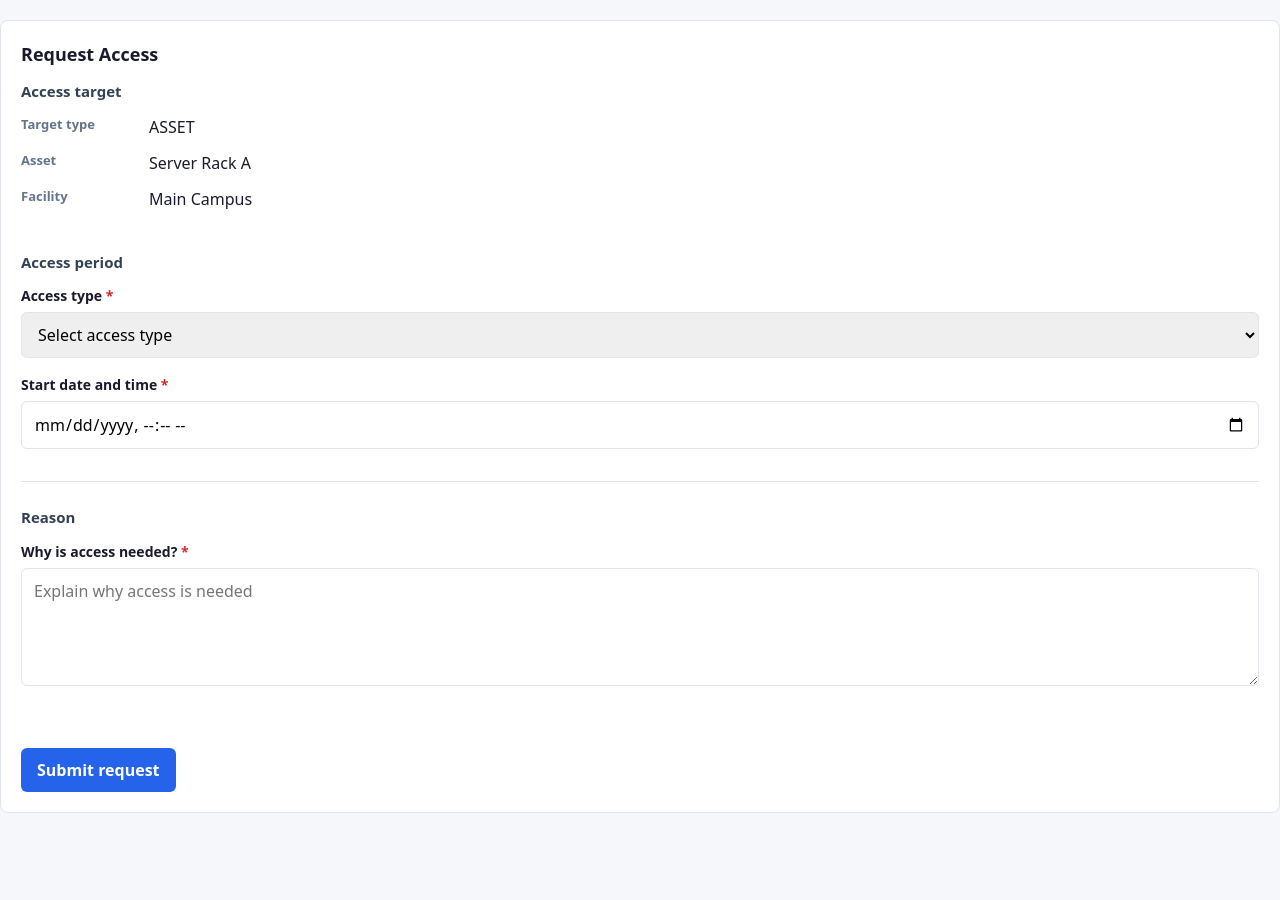
Scenario: Access request form › empty reason is rejected
Select "Permanent" in the dropdown labelled "Access type *" at (640, 335), box [21,312,1259,358]
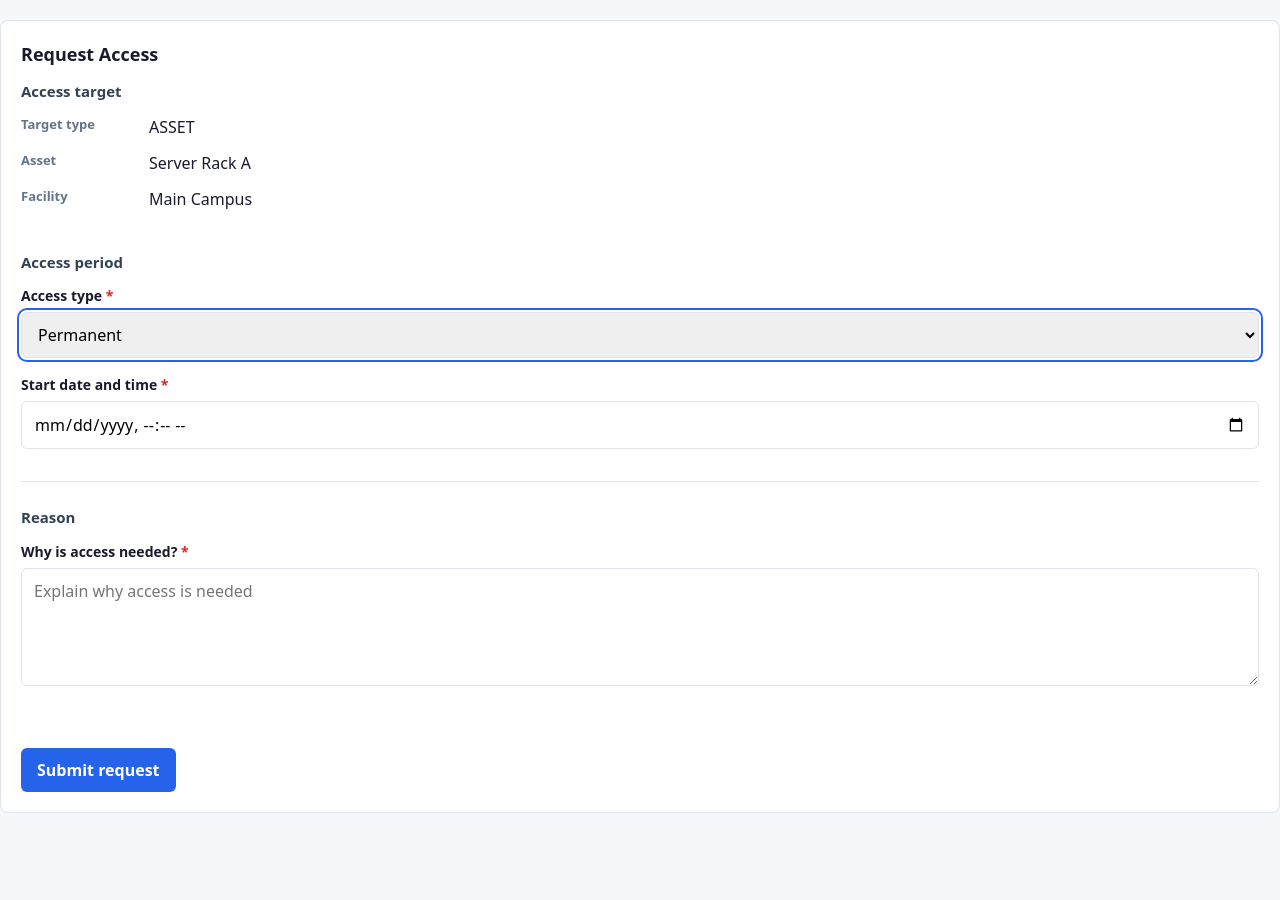
Click the button "Submit request" at (98, 770), box [21,748,176,792]
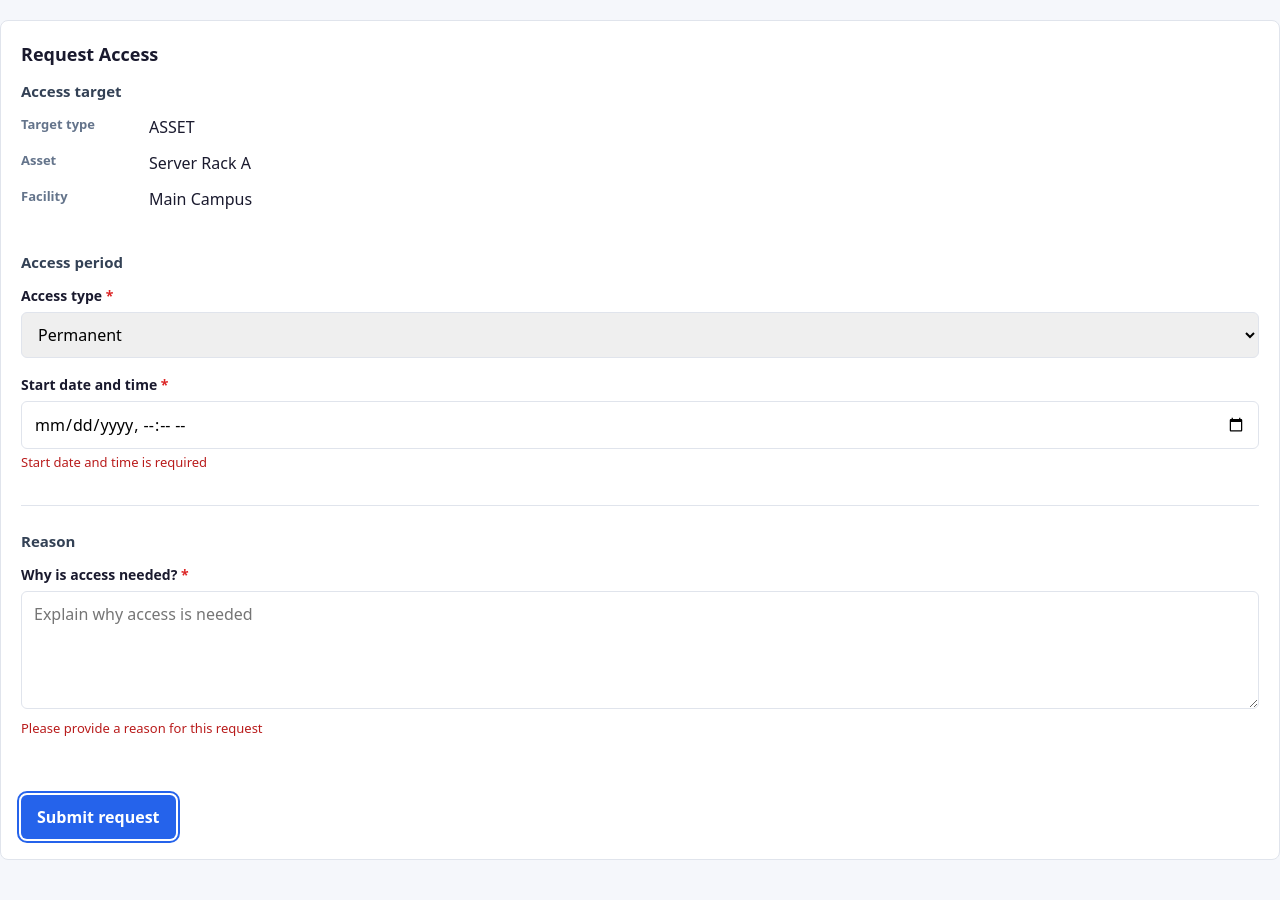
Expected: the text "Please provide a reason for this request" is shown, [21,719,263,737]
